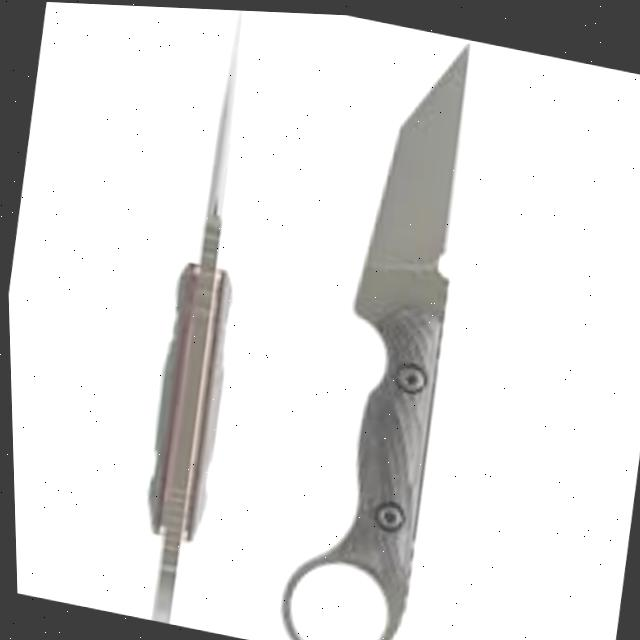knife: (258, 11, 498, 640), (115, 4, 289, 631)
